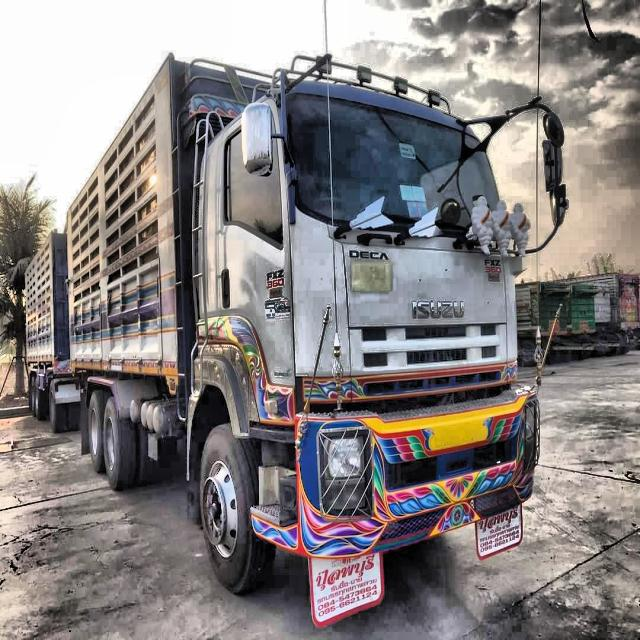trailer: (23, 40, 539, 600)
